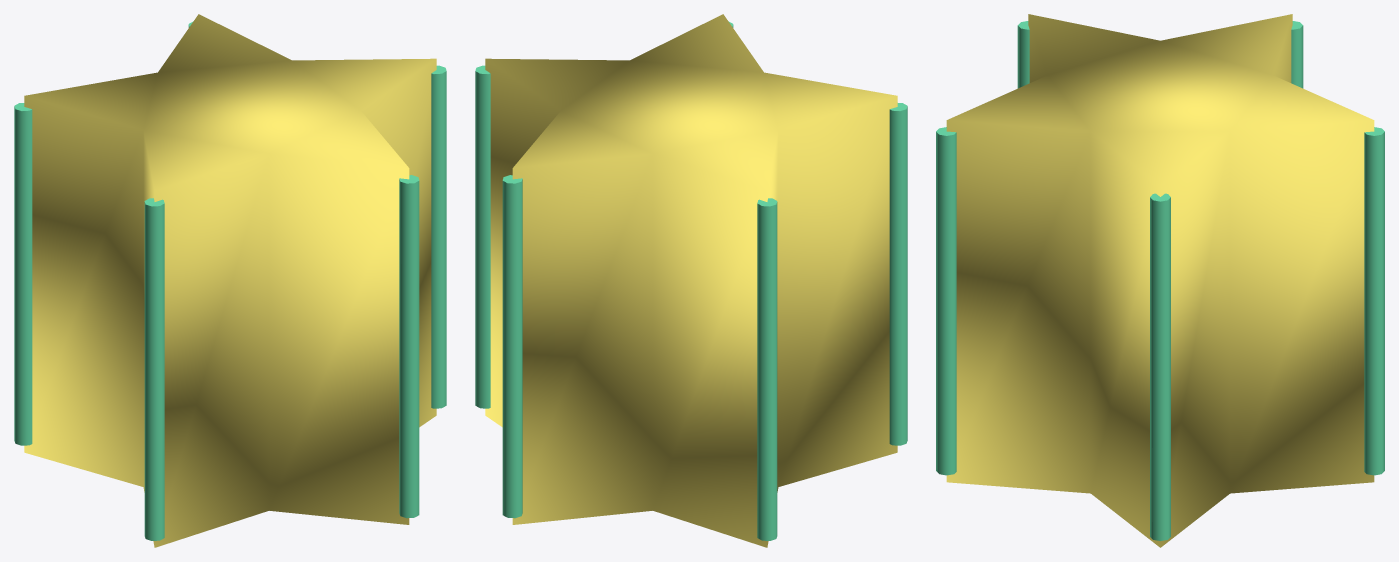
File: starfruit.glb
3 views of the same model, side by side, from view 1: azimuth 30°, elevation 25°; view 2: azimuth 150°, elevation 25°; view 3: azimuth 270°, elevation 25° (orthographic).
Parts seen in each view (by area): view 1: starfruit; view 2: starfruit; view 3: starfruit.
Boxes of the visible parts, box(x1,y1,x2,y2) form: starfruit: box(14, 14, 446, 547); starfruit: box(475, 14, 907, 547); starfruit: box(936, 14, 1384, 547).
Size of the model in its own units: 0.9534 by 0.8904 by 1.
1 material, 1 textured.
